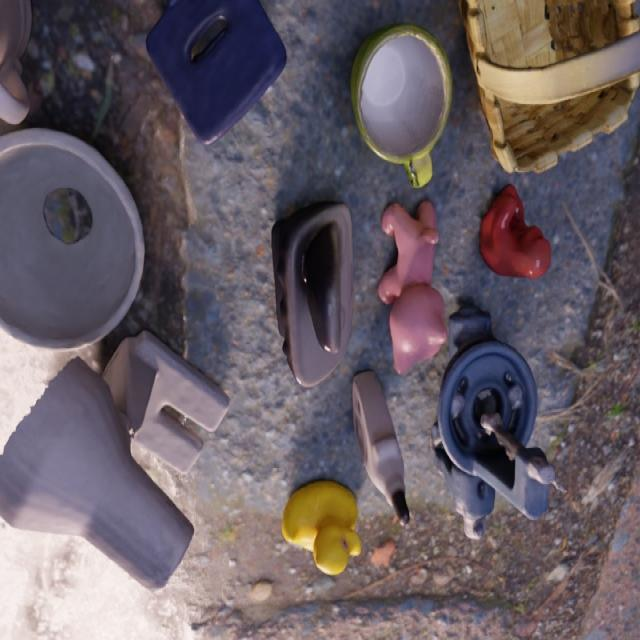Other Objects: (0, 332, 228, 589), (0, 129, 144, 349), (459, 1, 639, 173), (146, 1, 285, 144), (350, 25, 451, 188), (271, 203, 351, 387), (378, 201, 447, 375), (352, 372, 409, 524), (283, 481, 361, 575), (480, 187, 550, 279), (0, 1, 30, 124)
